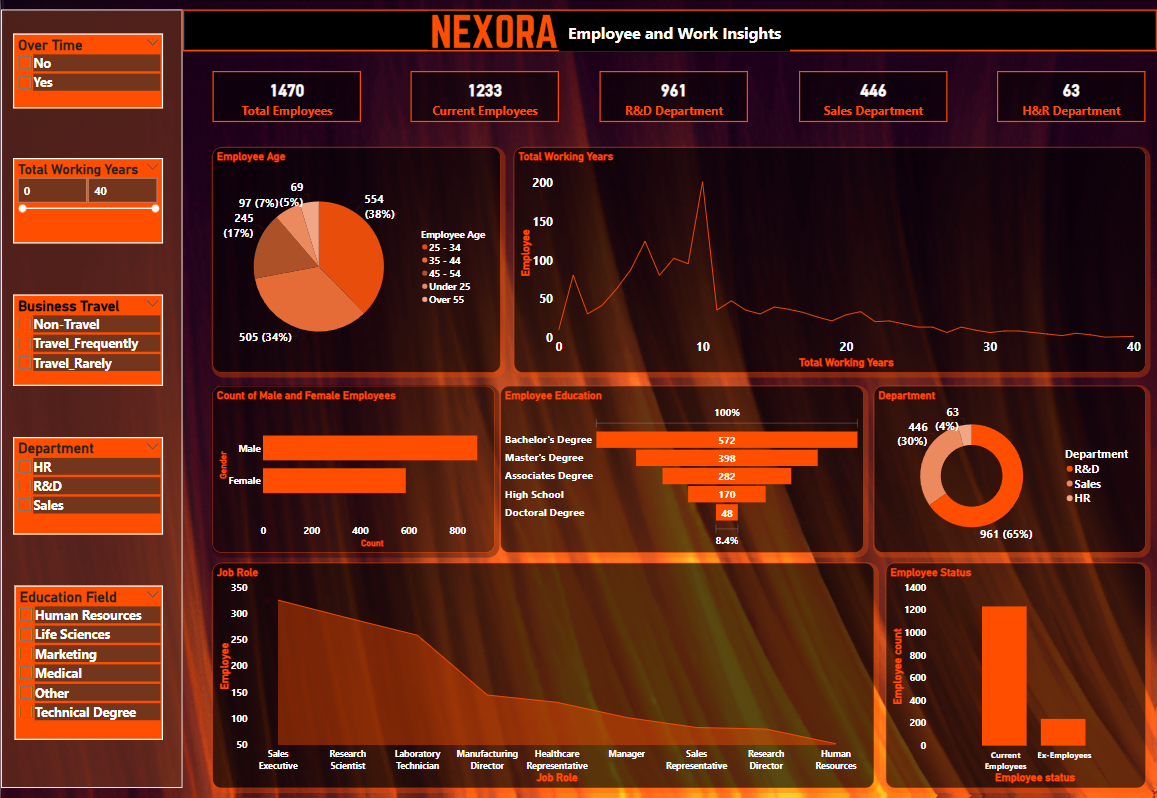

The dashboard page shown, as its layout file describes it:
{"tool":"powerbi","page":{"name":"Page 1","canvas":[3880,2680],"ordinal":0},"visuals":[{"type":"barChart","title":" Count of Male and Female Employees ","fields":{"Category":["Sheet2.Gender"],"Y":["CountNonNull(Sheet2.Over18)"]},"box":[709.4,1298.1,945.9,558.5],"z":0},{"type":"areaChart","title":" Job Role","fields":{"Category":["Sheet2.Job Role"],"Y":["CountNonNull(Sheet2.Gender)"]},"box":[709.4,1891.8,2218.8,754.7],"z":1000},{"type":"pieChart","title":"Employee Age","fields":{"Category":["Sheet2.CF_age band"],"Y":["Sum(Sheet2.Employee Count)"]},"box":[709.4,498.1,966,754.7],"z":2000},{"type":"donutChart","title":"Department","fields":{"Category":["Sheet2.Department"],"Y":["Sum(Sheet2.Employee Count)"]},"box":[2928.3,1298.1,910.7,558.5],"z":3000},{"type":"funnel","title":"Employee Education","fields":{"Category":["Sheet2.Education"],"Y":["CountNonNull(Sheet2.Over18)"]},"box":[1675.5,1298.1,1217.6,558.5],"z":4000},{"type":"lineChart","title":"Total Working Years","fields":{"Category":["Sheet2.Total Working Years"],"Y":["Sum(Sheet2.Employee Count)"]},"box":[1720.7,498.1,2118.2,754.7],"z":5000},{"type":"columnChart","title":"Employee Status","fields":{"Category":["Sheet2.CF_attrition label"],"Y":["Sum(Sheet2.Employee Count)"]},"box":[2968.5,1891.8,870.4,754.7],"z":6000},{"type":"shape","box":[0,35.2,608.8,2611.3],"z":7000},{"type":"slicer","fields":{"Values":["Sheet2.Business Travel"]},"box":[40.3,991.2,503.1,306.9],"z":8000},{"type":"slicer","fields":{"Values":["Sheet2.Education Field"]},"box":[45.3,1967.3,498.1,518.2],"z":9000},{"type":"slicer","fields":{"Values":["Sheet2.Over Time"]},"box":[40.3,115.7,503.1,251.6],"z":10000},{"type":"slicer","fields":{"Values":["Sheet2.Total Working Years"]},"box":[40.3,533.3,503.1,286.8],"z":11000},{"type":"slicer","fields":{"Values":["Sheet2.Department"]},"box":[40.3,1469.2,503.1,327],"z":12000},{"type":"shape","box":[608.8,35.2,3270.4,140.9],"z":13000},{"type":"image","box":[1388.7,35.2,528.3,140.9],"z":14000},{"type":"textbox","box":[1871.7,70.4,774.8,105.7],"z":15000},{"type":"card","fields":{"Values":["Sum(Sheet2.Employee Count)"]},"box":[709.4,241.5,498.1,171.1],"z":16000},{"type":"card","fields":{"Values":["CountNonNull(Sheet2.CF_attrition label)"]},"box":[1373.6,241.5,498.1,171.1],"z":17000},{"type":"card","fields":{"Values":["CountNonNull(Sheet2.Department)"]},"box":[2007.5,241.5,498.1,171.1],"z":18000},{"type":"card","fields":{"Values":["CountNonNull(Sheet2.Department)"]},"box":[2676.7,241.5,498.1,171.1],"z":19000},{"type":"card","fields":{"Values":["CountNonNull(Sheet2.Department)"]},"box":[3340.8,241.5,498.1,171.1],"z":20000}]}

Visuals, with their boxes in screenshot pixels (x1, y1, x2, y2), scaled from the page's 3880x2680 canvas onto the 1157x798 screenshot:
" Count of Male and Female Employees " barChart: x1=212, y1=387, x2=494, y2=553
" Job Role" areaChart: x1=212, y1=563, x2=873, y2=788
"Employee Age" pieChart: x1=212, y1=148, x2=500, y2=373
"Department" donutChart: x1=873, y1=387, x2=1145, y2=553
"Employee Education" funnel: x1=500, y1=387, x2=863, y2=553
"Total Working Years" lineChart: x1=513, y1=148, x2=1145, y2=373
"Employee Status" columnChart: x1=885, y1=563, x2=1145, y2=788
shape: x1=0, y1=10, x2=182, y2=788
slicer - Sheet2.Business Travel: x1=12, y1=295, x2=162, y2=387
slicer - Sheet2.Education Field: x1=14, y1=586, x2=162, y2=740
slicer - Sheet2.Over Time: x1=12, y1=34, x2=162, y2=109
slicer - Sheet2.Total Working Years: x1=12, y1=159, x2=162, y2=244
slicer - Sheet2.Department: x1=12, y1=437, x2=162, y2=535
shape: x1=182, y1=10, x2=1156, y2=52
image: x1=414, y1=10, x2=572, y2=52
textbox: x1=558, y1=21, x2=789, y2=52
card - Sum(Sheet2.Employee Count): x1=212, y1=72, x2=360, y2=123
card - CountNonNull(Sheet2.CF_attrition label): x1=410, y1=72, x2=558, y2=123
card - CountNonNull(Sheet2.Department): x1=599, y1=72, x2=747, y2=123
card - CountNonNull(Sheet2.Department): x1=798, y1=72, x2=947, y2=123
card - CountNonNull(Sheet2.Department): x1=996, y1=72, x2=1145, y2=123
